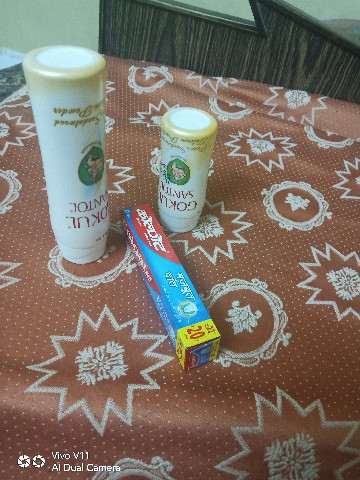colgatetoothpaste small: (120, 201, 223, 379)
gokulsantol big: (18, 34, 124, 267)
gokulsantol small: (152, 91, 225, 246)
